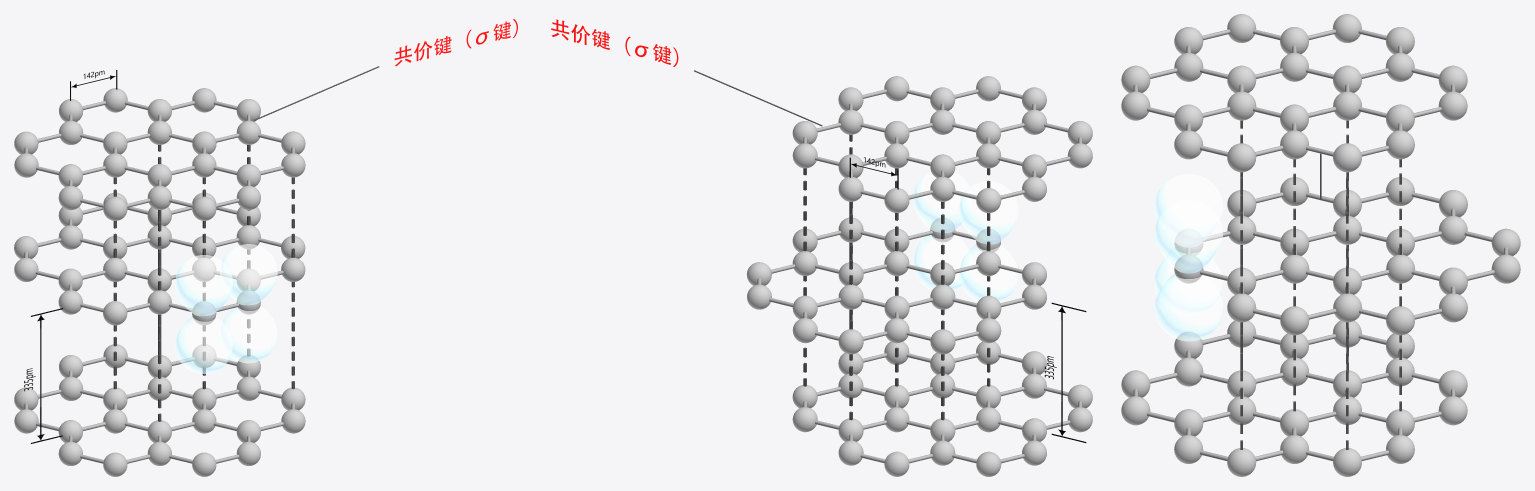
The picture shows the model from 3 angles, left to right: view 1: azimuth 30°, elevation 25°; view 2: azimuth 150°, elevation 25°; view 3: azimuth 270°, elevation 25°; orthographic projection. The views are drawn at different scales.
Visible parts, largest first — view 1: qiu, qiu_pai, yuanzhu, cube, gjj; view 2: qiu, qiu_pai, yuanzhu, cube, gjj; view 3: qiu, yuanzhu, qiu_pai, cube.
Boxes of the visible parts, box(x1,y1,x2,y2) form: qiu: box(14, 88, 305, 476); qiu_pai: box(175, 244, 277, 373); yuanzhu: box(24, 101, 295, 463); cube: box(113, 145, 294, 421); gjj: box(394, 19, 517, 66); qiu: box(746, 76, 1092, 476); qiu_pai: box(913, 172, 1018, 301); yuanzhu: box(757, 89, 1082, 463); cube: box(803, 134, 990, 420); gjj: box(551, 19, 678, 66); qiu: box(1121, 14, 1520, 476); yuanzhu: box(1133, 29, 1508, 461); qiu_pai: box(1154, 174, 1223, 341); cube: box(1240, 120, 1401, 449).
Size of the model in its own units: 188 by 109 by 107.
7 materials, 3 textured.
